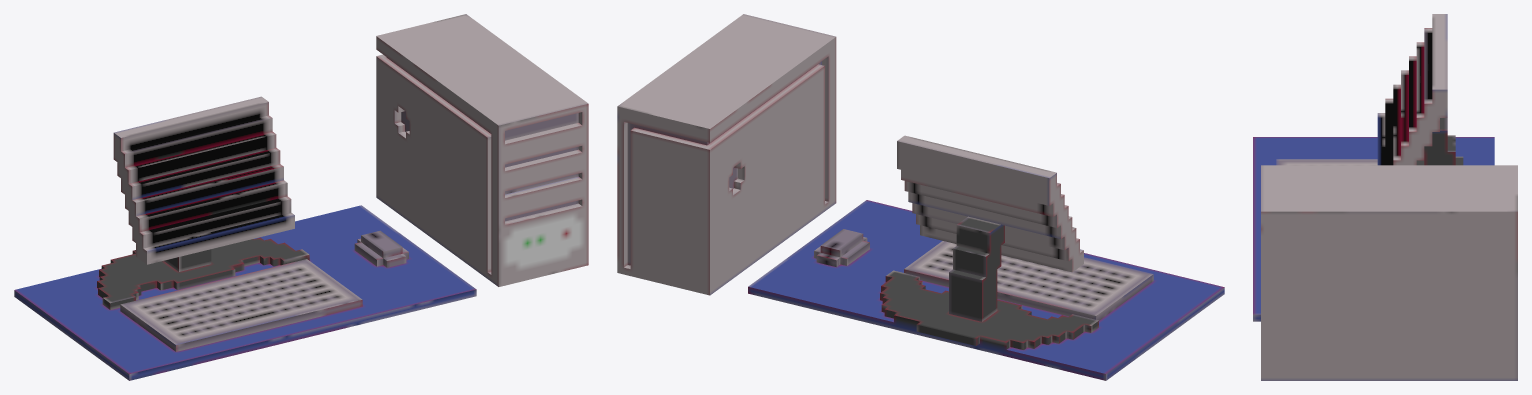
Rendered from computer_setup_5.obj.
The picture shows the model from 3 angles, left to right: view 1: azimuth 30°, elevation 25°; view 2: azimuth 150°, elevation 25°; view 3: azimuth 270°, elevation 25°; orthographic projection. The views are drawn at different scales.
Visible parts, largest first — view 1: computer_setup_5; view 2: computer_setup_5; view 3: computer_setup_5.
Boxes of the visible parts, x1,y1,x2,y2 form: computer_setup_5: (14, 14, 588, 380); computer_setup_5: (617, 14, 1224, 380); computer_setup_5: (1253, 14, 1517, 380).
Bounding box in the file's own units: 7.2 × 2.4 × 3.4.
Materials: 1 (1 with a texture image).
